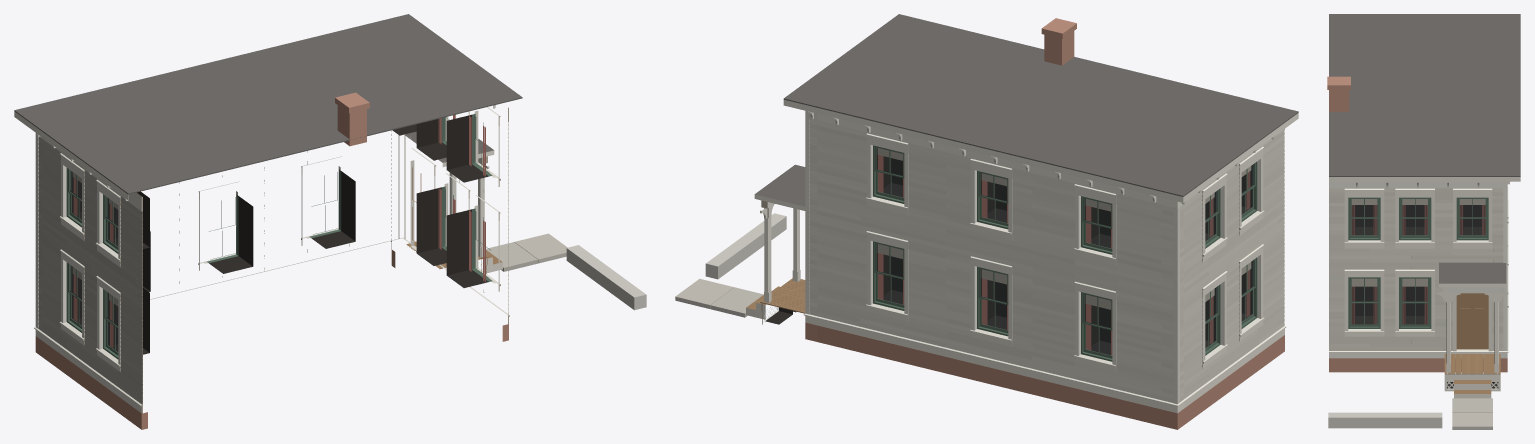
File: house_1611_prairie__as_mapped_1904.glb
3 renders of one model, left to right at view 1: azimuth 30°, elevation 25°; view 2: azimuth 150°, elevation 25°; view 3: azimuth 270°, elevation 25°, orthographic. The views are drawn at different scales.
Visible parts, largest first — view 1: house_1611_prairie__as_mapped_1904; view 2: house_1611_prairie__as_mapped_1904; view 3: house_1611_prairie__as_mapped_1904.
Boxes of the visible parts, x1,y1,x2,y2 form: house_1611_prairie__as_mapped_1904: [14, 14, 646, 429]; house_1611_prairie__as_mapped_1904: [675, 14, 1298, 429]; house_1611_prairie__as_mapped_1904: [1327, 14, 1520, 429].
Bounding box in the file's own units: 14.89 × 7.54 × 5.72.
